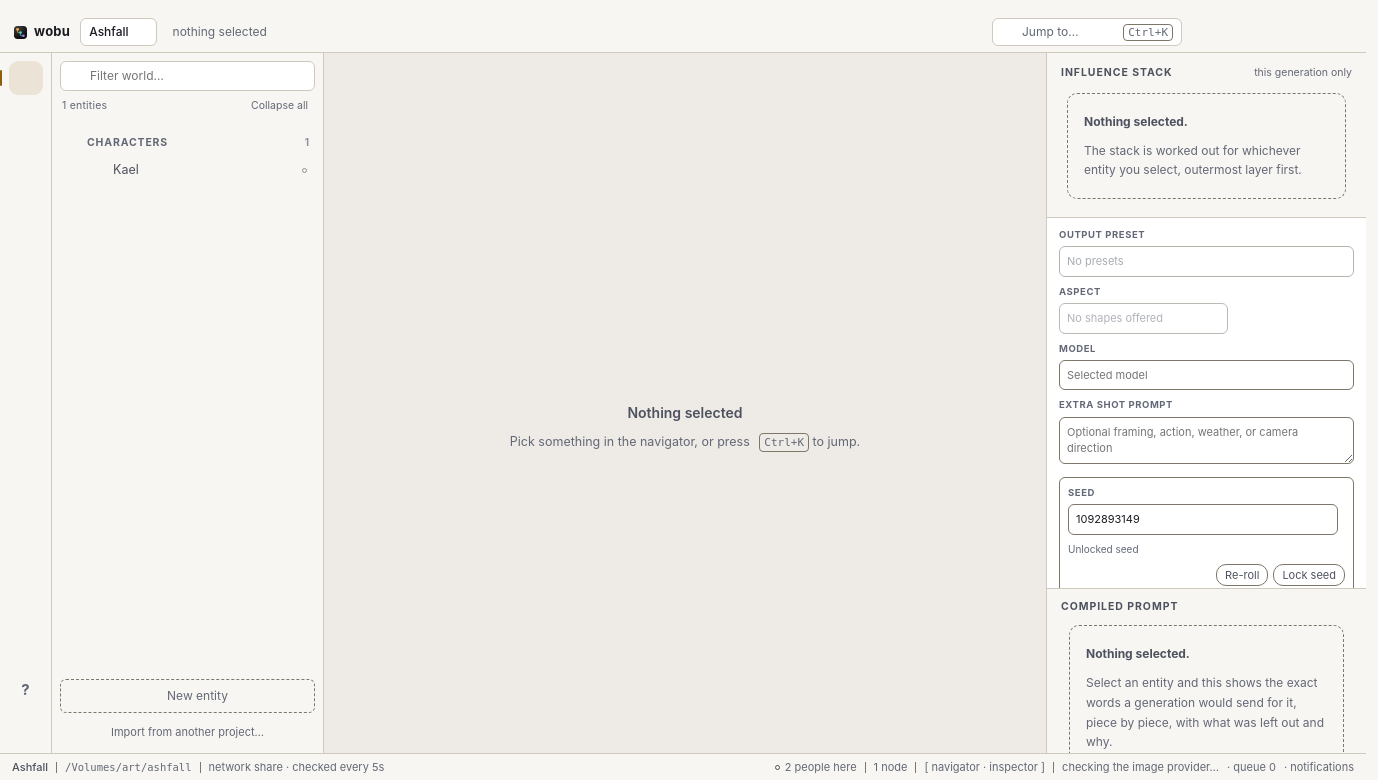
Scenario: the banner over a node being edited elsewhere › appears once when that node is opened, and not again on every beat
The image size is (1378, 780).
Click the button "Kael": {"x": 188, "y": 171} 60,157 -> 315,185
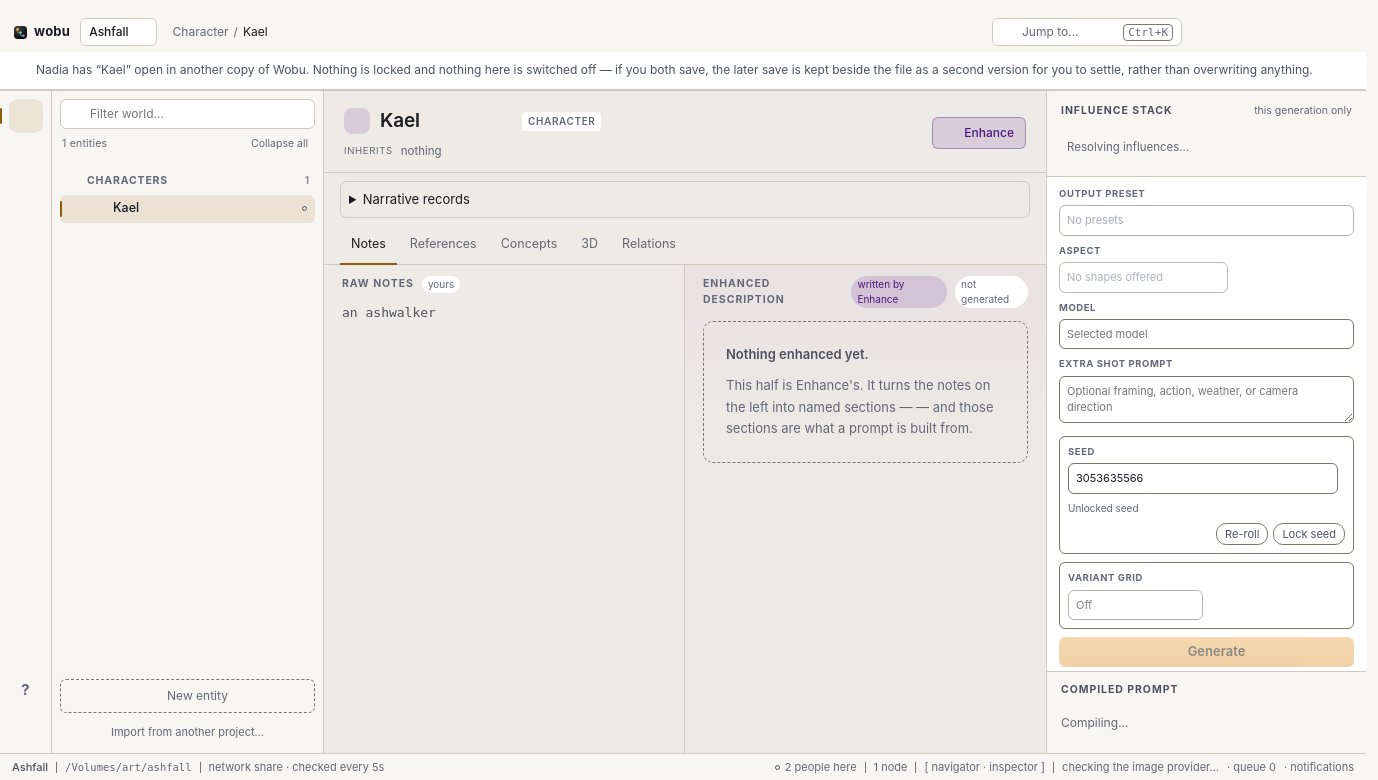
Expected: the text "Nadia has “Kael” open in another copy of Wobu" is shown once, 36,61 -> 1326,79
